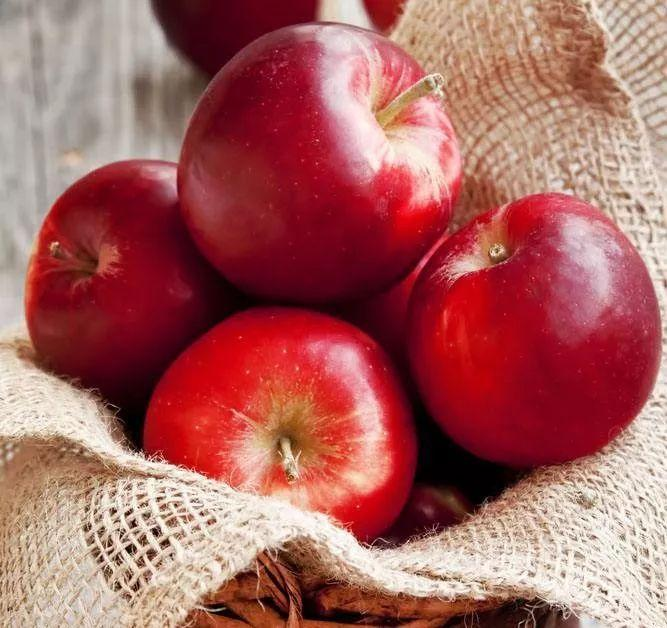apple: (173, 19, 463, 315), (408, 193, 666, 466), (135, 309, 413, 537), (25, 155, 226, 413)
